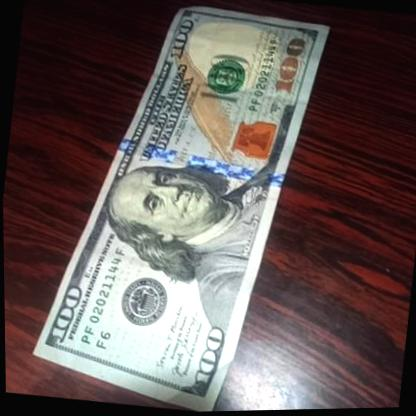one_hundred-front: (21, 0, 337, 416)
